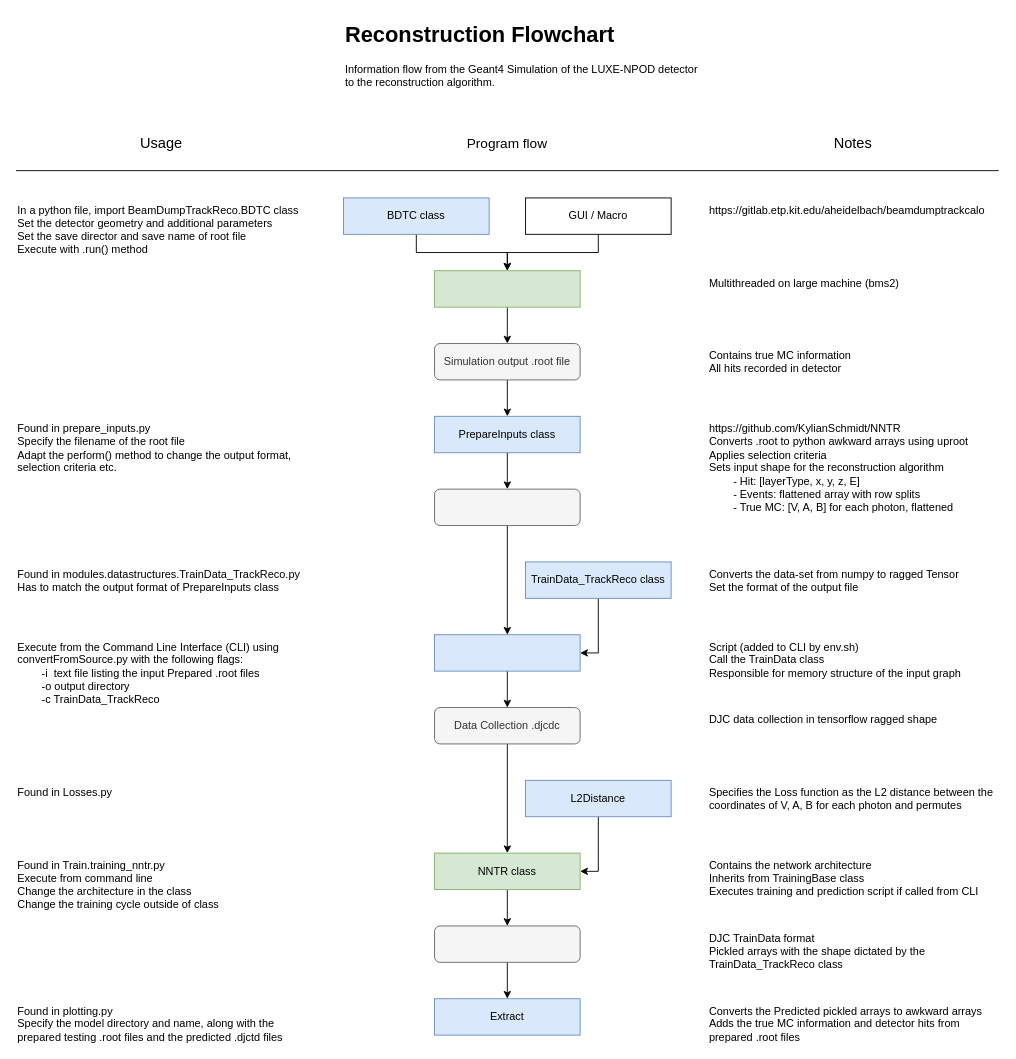
The diagram is 1016 pixels wide and 1059 high, and some of its shapes have lost their labels. Each missing label, with the centre of its shape:
ConvertFromSource: [507,652]
Geant4 Simulation: [507,288]
Predicted.djctd: [507,943]
Prepared .root file: [507,507]
